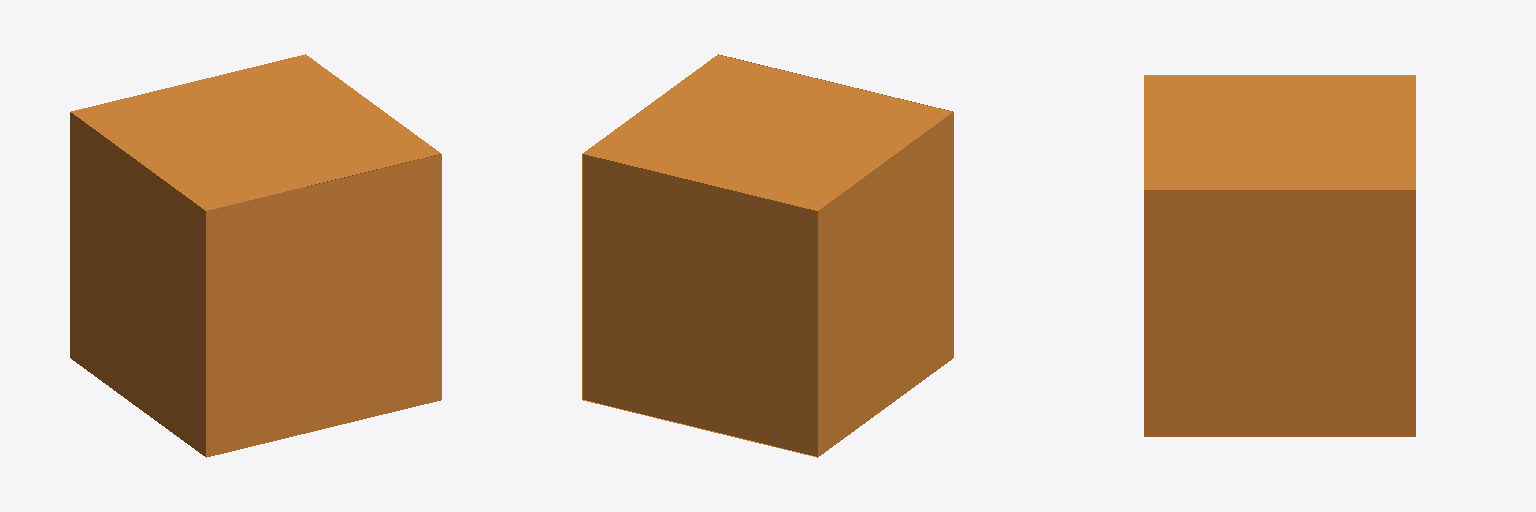
3 renders of one model, left to right at view 1: azimuth 30°, elevation 25°; view 2: azimuth 150°, elevation 25°; view 3: azimuth 270°, elevation 25°, orthographic.
Parts seen in each view (by area): view 1: Cube_Cube.001; view 2: Cube_Cube.001; view 3: Cube_Cube.001.
Part boxes in pixels (x1,y1,x2,y2): Cube_Cube.001: (70, 54, 441, 457); Cube_Cube.001: (582, 54, 953, 457); Cube_Cube.001: (1144, 75, 1415, 436).
Bounding box in the file's own units: 1 × 1 × 1.
1 materials, 1 textured.